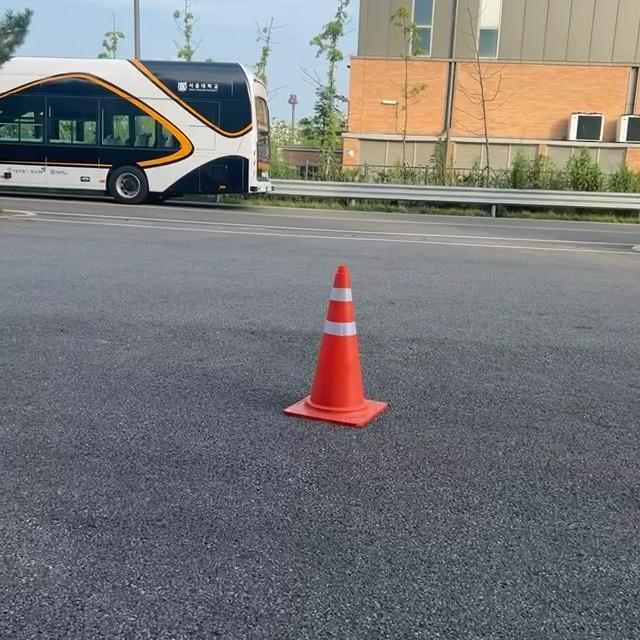fallen_object: (249, 249, 427, 453)
